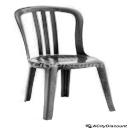chair_success: (8, 4, 122, 121)
